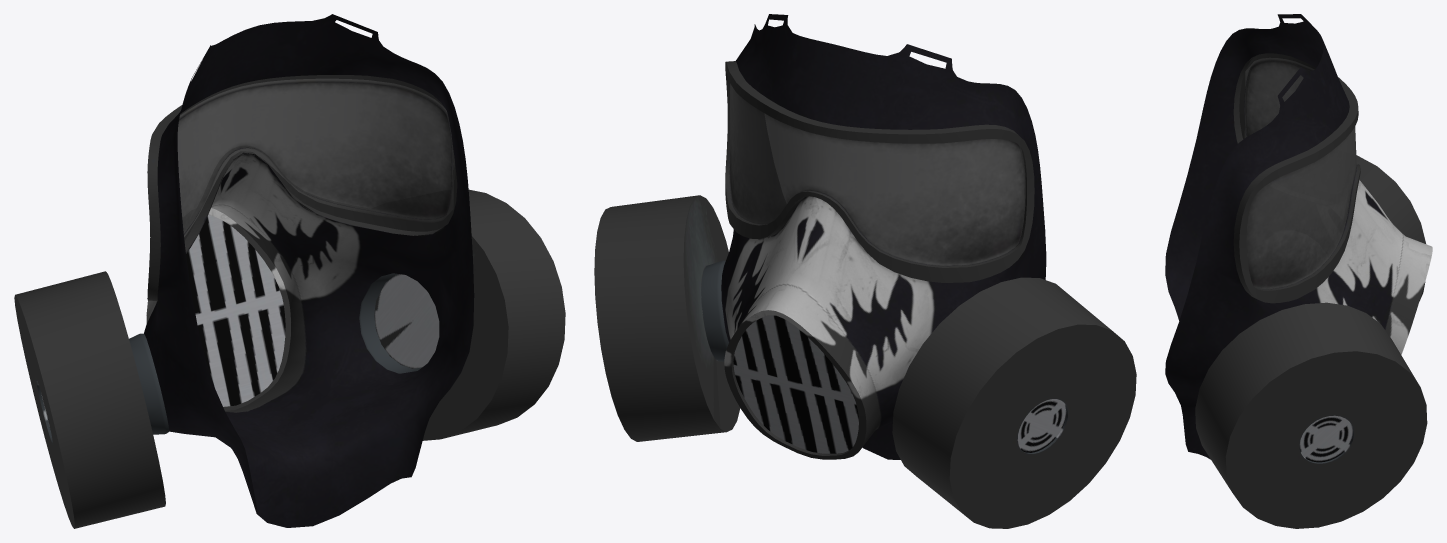
File: gasMask2.gltf
The picture shows the model from 3 angles, left to right: view 1: azimuth 30°, elevation 25°; view 2: azimuth 150°, elevation 25°; view 3: azimuth 270°, elevation 25°; orthographic projection. The views are drawn at different scales.
Parts seen in each view (by area): view 1: gasMask2; view 2: gasMask2; view 3: gasMask2.
Part boxes in pixels (left/top/right/bottom): gasMask2: left=14, top=14, right=565, bottom=528; gasMask2: left=594, top=14, right=1136, bottom=528; gasMask2: left=1165, top=14, right=1432, bottom=528.
Bounding box in the file's own units: 1.33 × 1.17 × 0.6746.
1 material, 1 textured.
